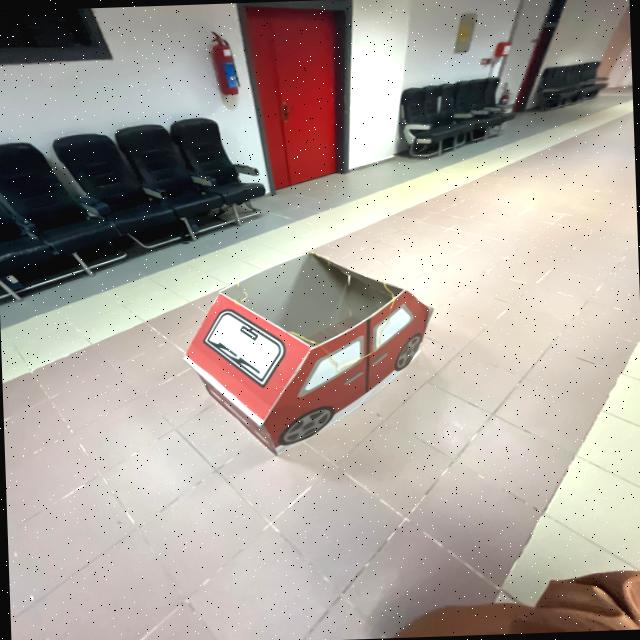red_car: (145, 240, 458, 468)
